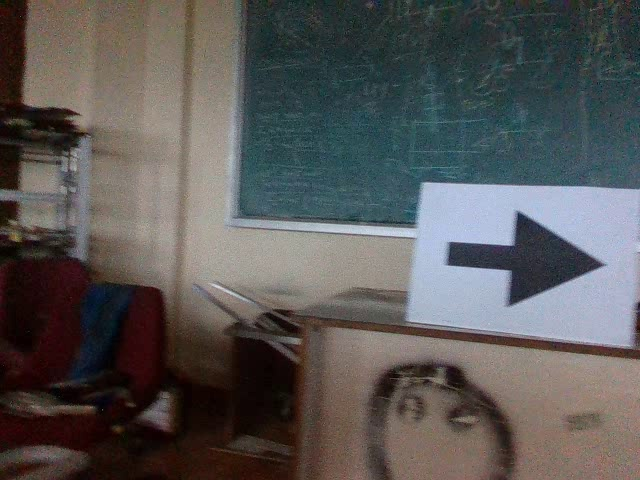Right: (437, 200, 613, 316)
